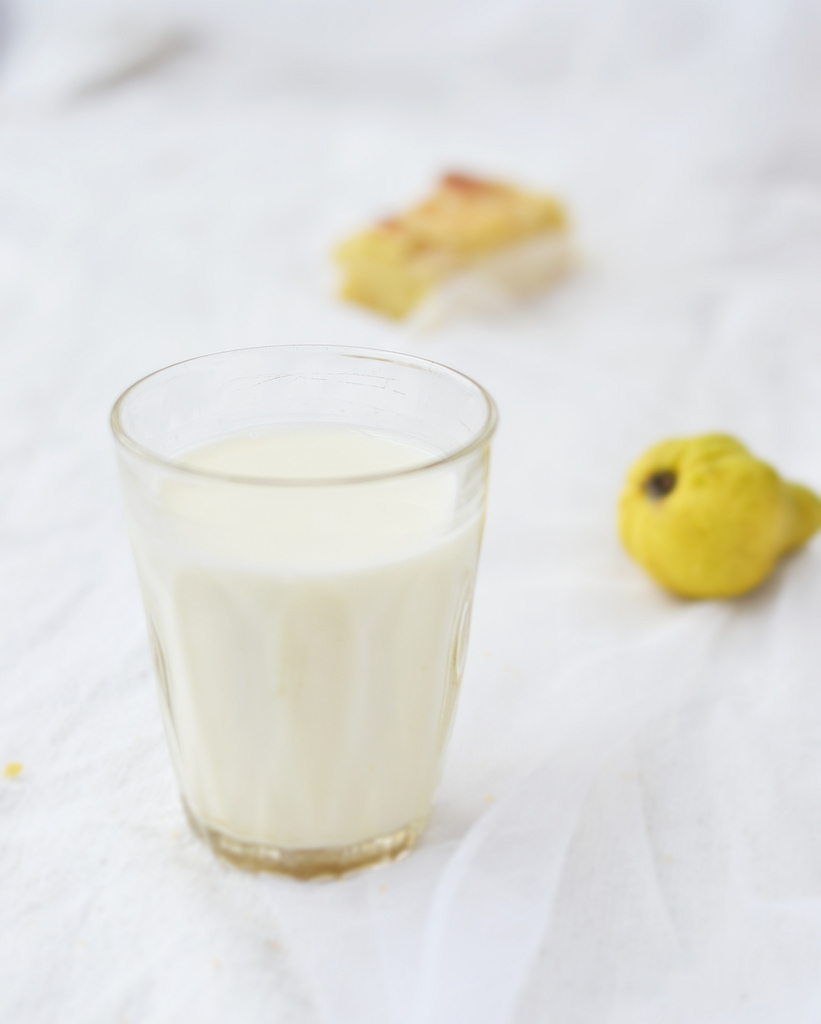glass of milk: (114, 347, 495, 863)
